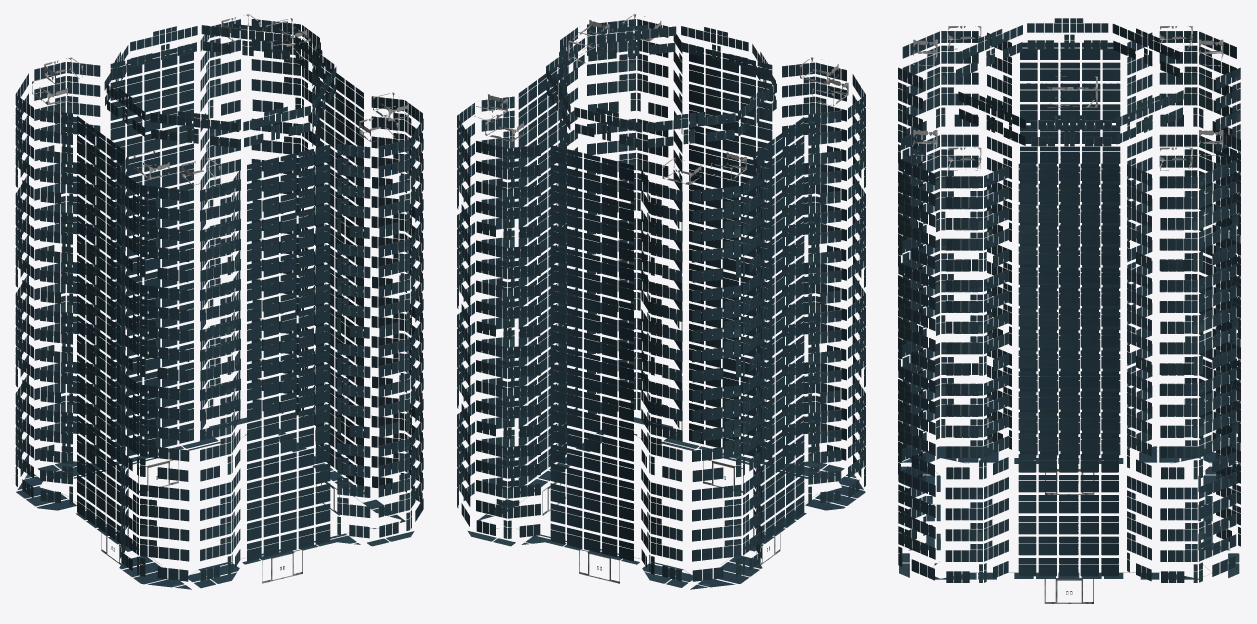
File: si_building_06.fbx
3 renders of one model, left to right at view 1: azimuth 30°, elevation 25°; view 2: azimuth 150°, elevation 25°; view 3: azimuth 270°, elevation 25°, orthographic. The views are drawn at different scales.
Parts seen in each view (by area): view 1: si_building_06; view 2: si_building_06; view 3: si_building_06.
Part boxes in pixels (bbox=[...]): si_building_06: bbox=[15, 14, 423, 589]; si_building_06: bbox=[457, 14, 865, 589]; si_building_06: bbox=[898, 18, 1240, 603].
Bounding box in the file's own units: 121 × 194 × 121.
Materials: 1 (1 with a texture image).
